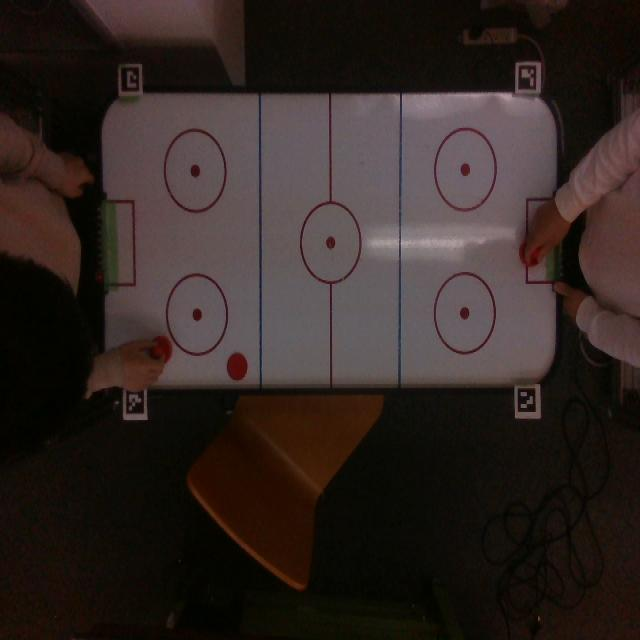puck: (227, 353, 248, 381)
